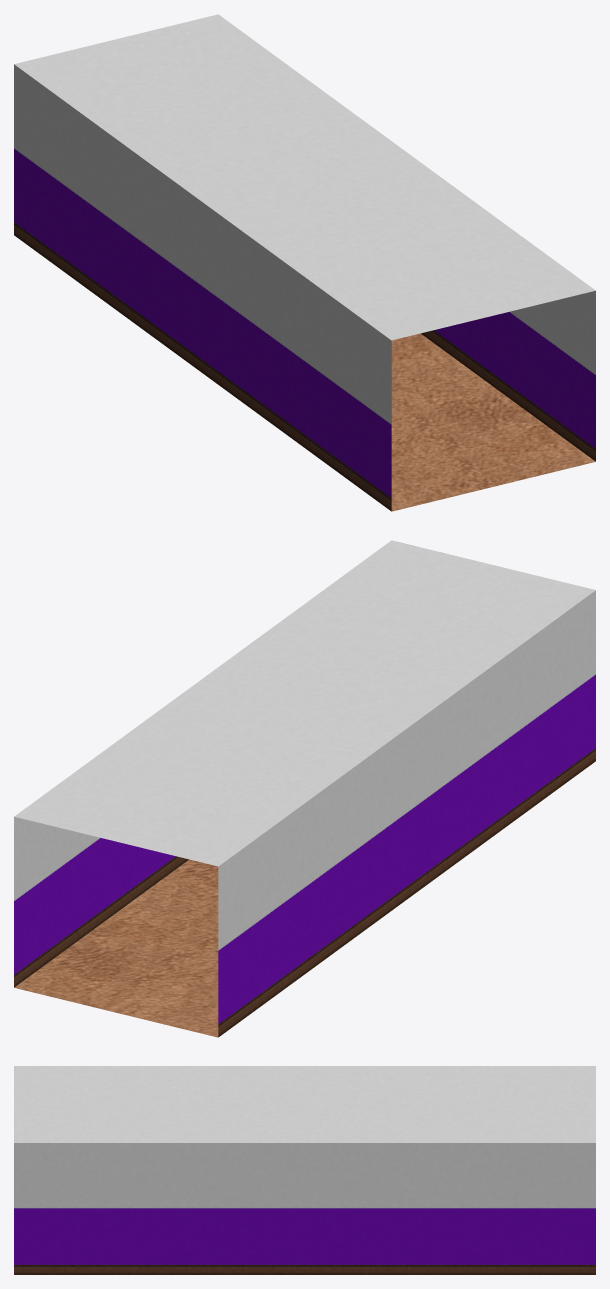
The model's file is Hallway Together.fbx.
3 views of the same model, one above another, from view 1: azimuth 30°, elevation 25°; view 2: azimuth 150°, elevation 25°; view 3: azimuth 270°, elevation 25° (orthographic). The views are drawn at different scales.
Parts seen in each view (by area): view 1: Hallway; view 2: Hallway; view 3: Hallway.
Boxes of the visible parts, <box> form: Hallway: <box>14,14,595,511</box>; Hallway: <box>14,540,595,1037</box>; Hallway: <box>14,1066,595,1274</box>.
Size of the model in its own units: 500 by 400 by 1600.
Materials: 1 (1 with a texture image).
